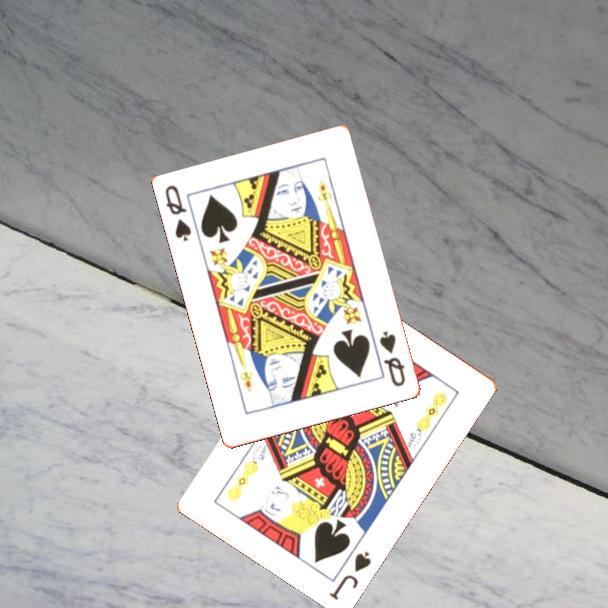s11: (325, 547, 374, 603)
s12: (162, 182, 195, 245), (376, 328, 409, 390)
